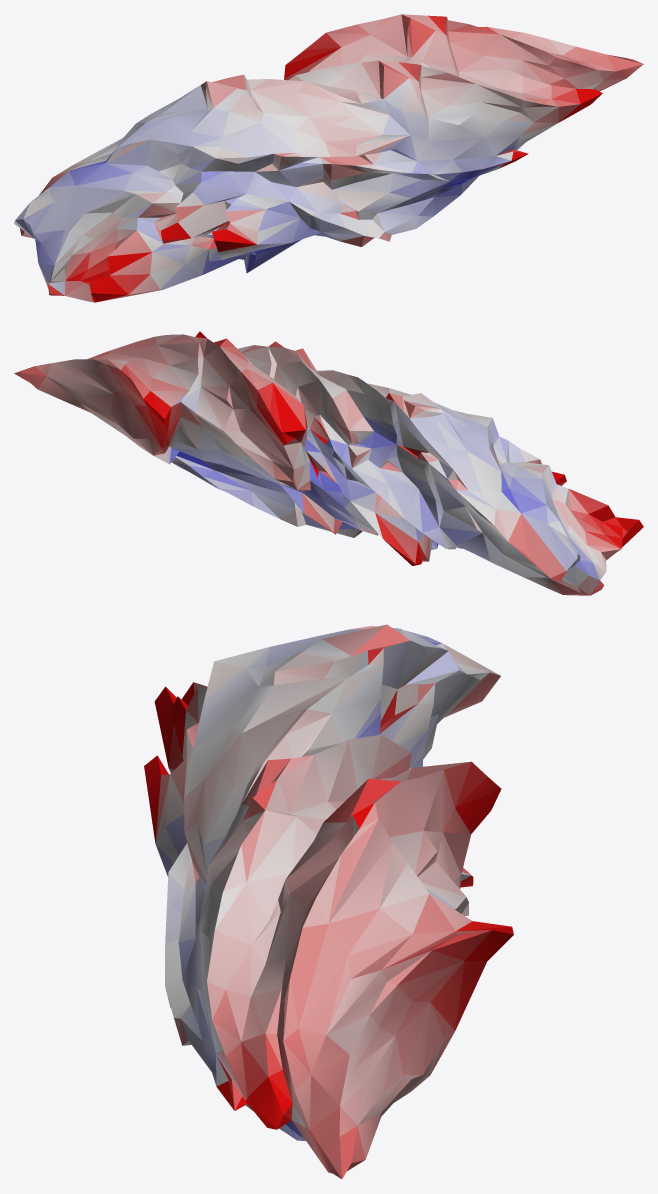
The model's file is stalac.fbx.
3 views of the same model, one above another, from view 1: azimuth 30°, elevation 25°; view 2: azimuth 150°, elevation 25°; view 3: azimuth 270°, elevation 25° (orthographic). The views are drawn at different scales.
Visible parts, largest first — view 1: uvedit2; view 2: uvedit2; view 3: uvedit2.
Part boxes in pixels (x1,y1,x2,y2): uvedit2: (14, 14, 643, 302); uvedit2: (14, 331, 643, 595); uvedit2: (144, 624, 513, 1178).
Bounding box in the file's own units: 122 × 36.68 × 33.44.
